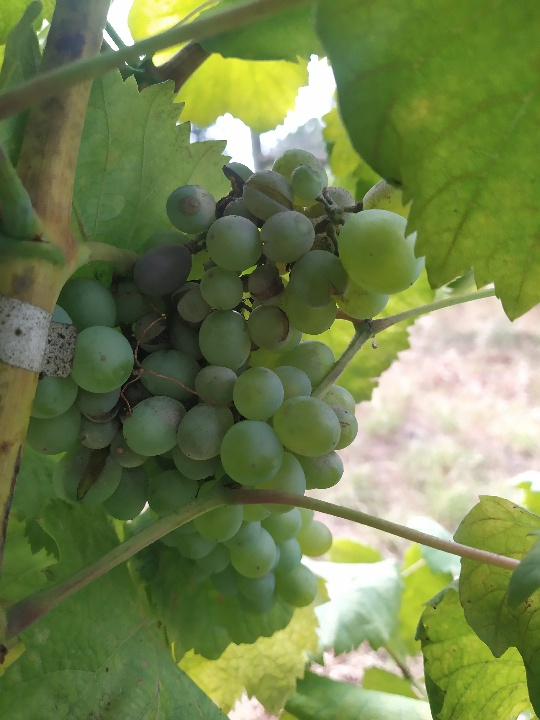grape: (31, 144, 429, 490)
